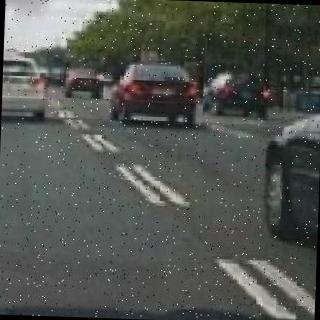smoke: (4, 0, 81, 37)
